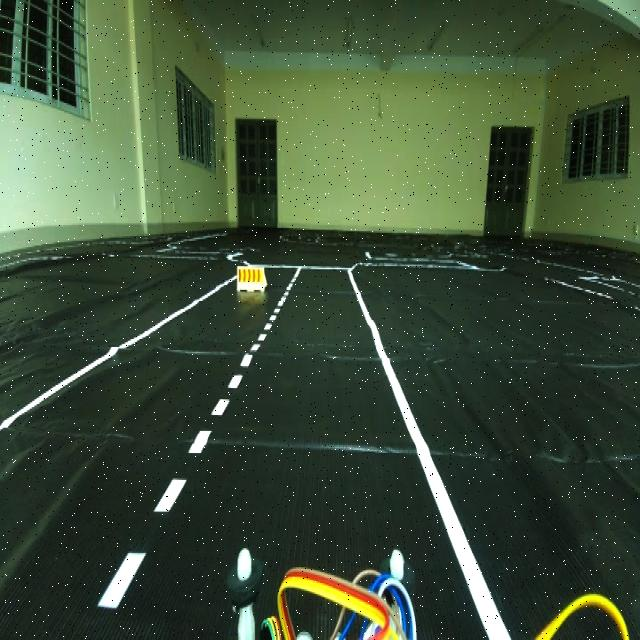roadblock: (234, 257, 265, 305)
